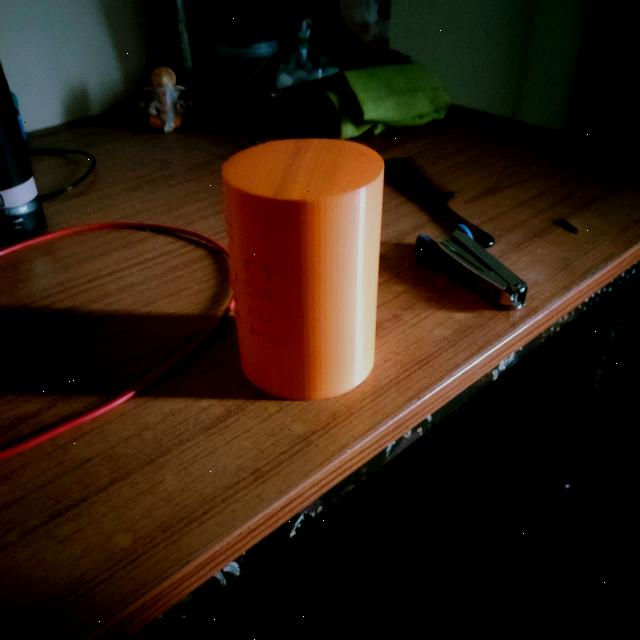Cylinder: (221, 136, 387, 401)
